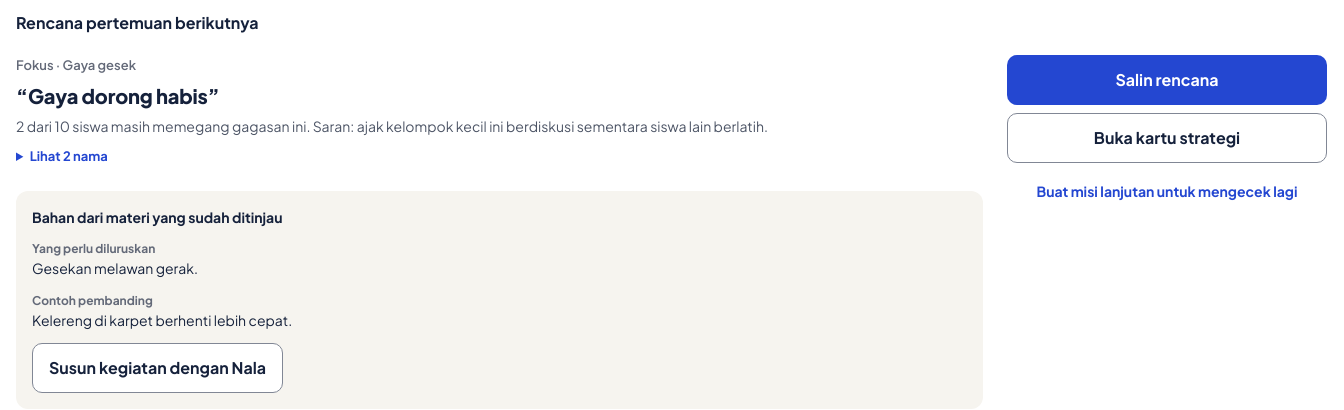
Test: NextLessonPlan › leads with reviewed material, keeps names folded and asks Nala once
Check: the text "2 dari 10 siswa masih memegang gagasan ini. Saran: ajak kelompok kecil ini berdiskusi sementara siswa lain berlatih." is shown, box [16,116,785,138]
Click the button "Susun kegiatan dengan Nala" at coordinates (158, 368), box [32,343,283,393]
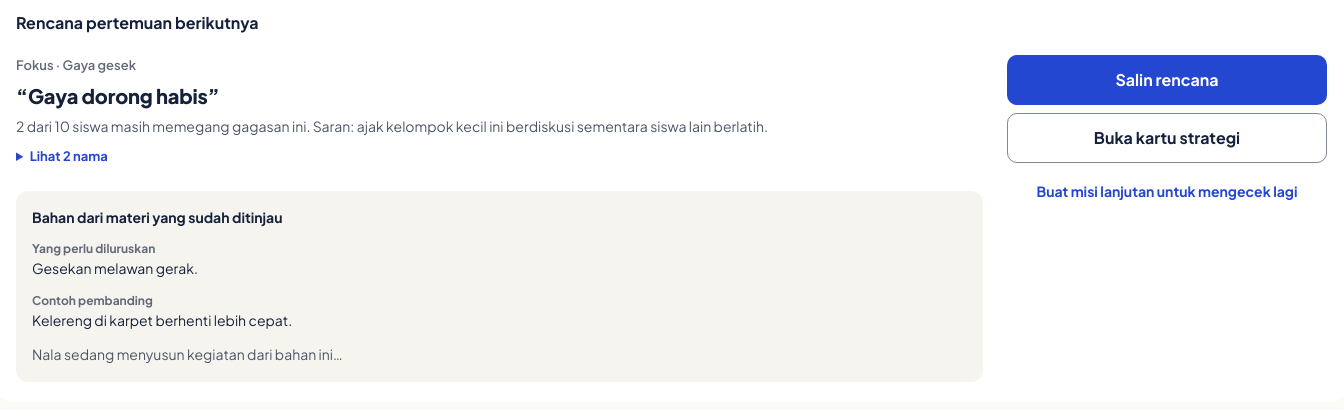
Check: the text "Nala sedang menyusun kegiatan dari bahan ini…" is shown, box [32,345,343,363]
